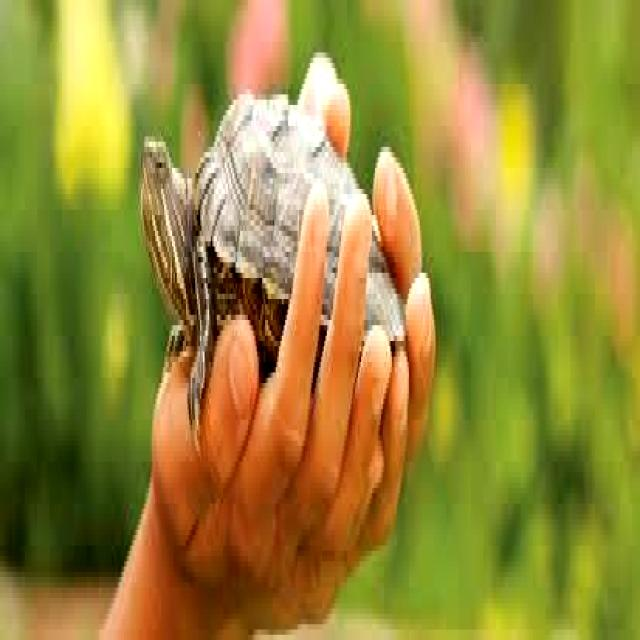Sea turtle: (128, 41, 452, 491)
